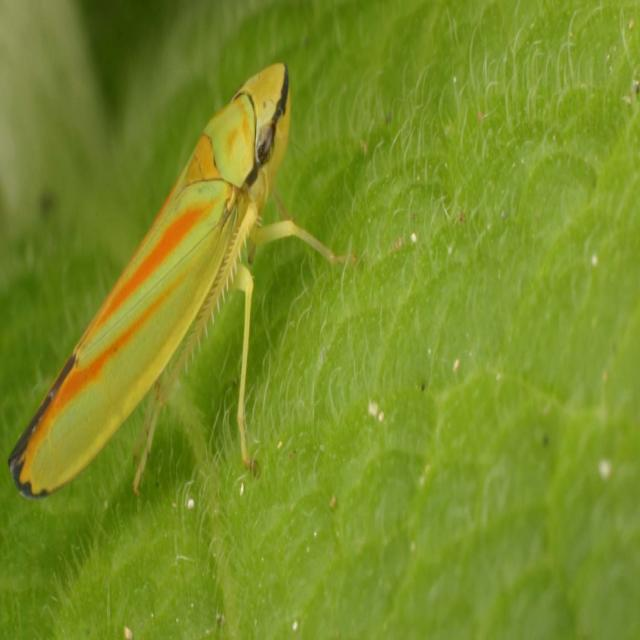Yechan: (6, 58, 345, 528)
